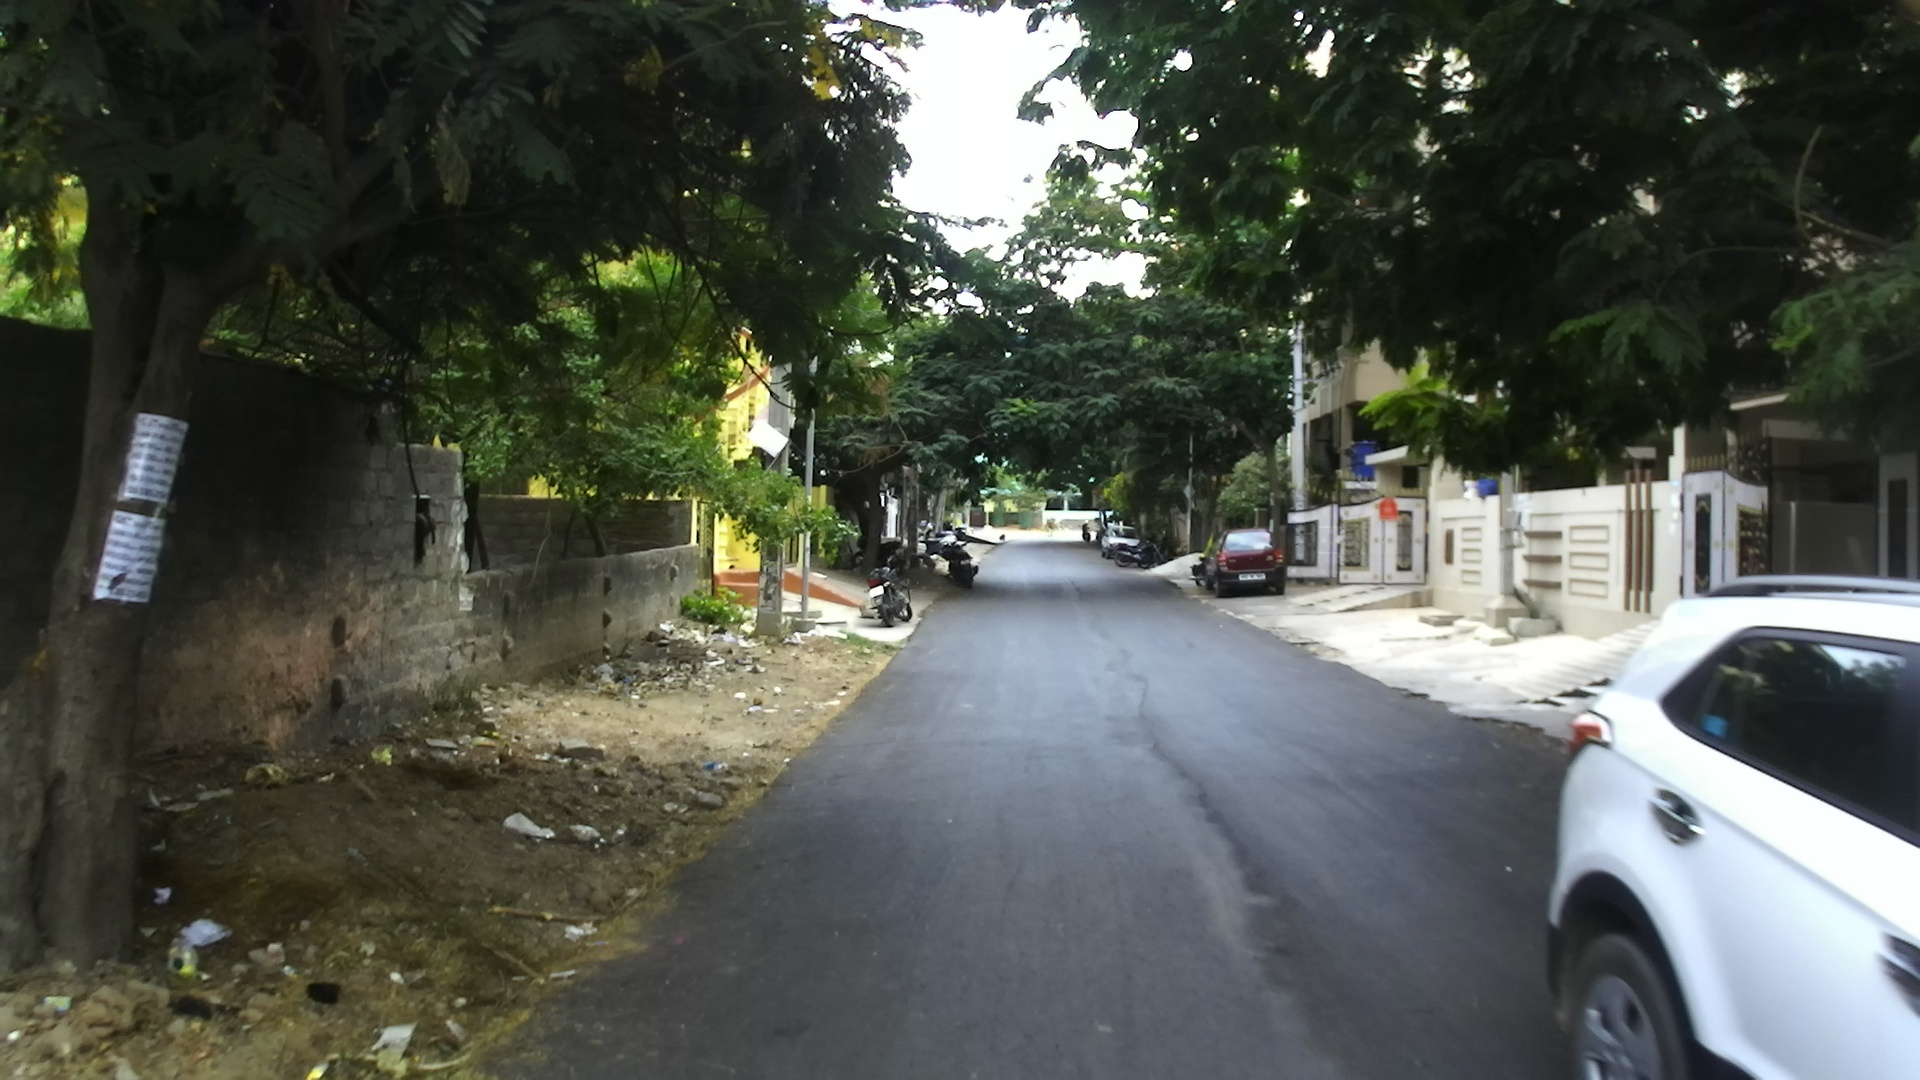vehicle: (1540, 574, 1917, 1075), (1211, 527, 1286, 596), (1102, 531, 1149, 566)
